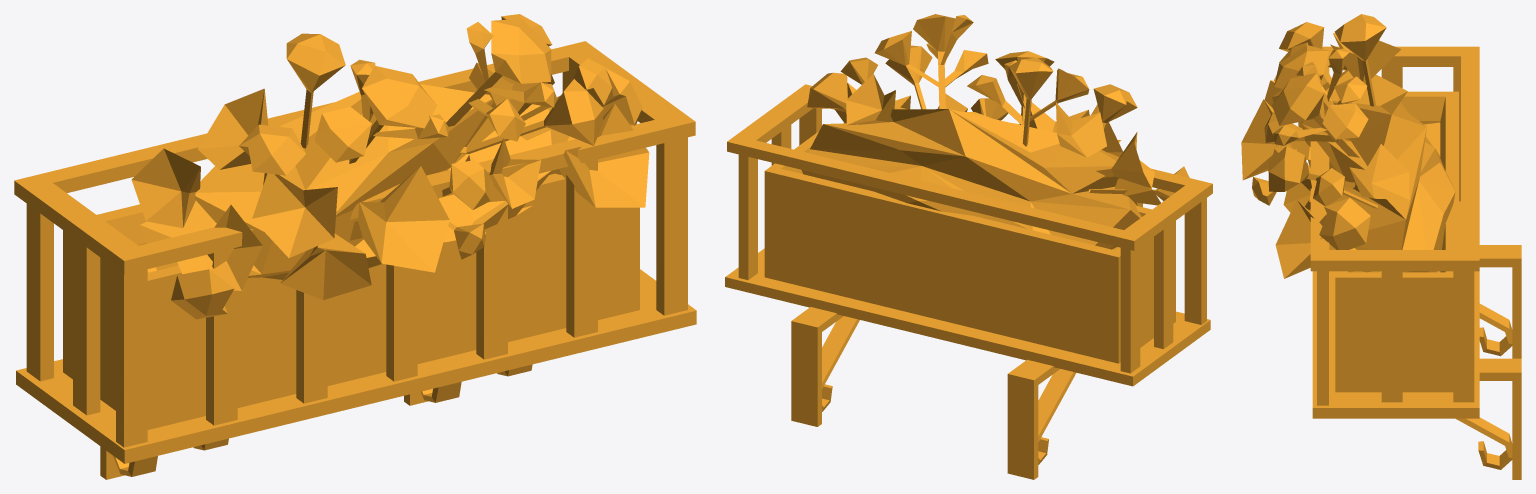
The model's file is SM_Pot_Window_City_A.fbx.
The picture shows the model from 3 angles, left to right: view 1: azimuth 30°, elevation 25°; view 2: azimuth 150°, elevation 25°; view 3: azimuth 270°, elevation 25°; orthographic projection. The views are drawn at different scales.
Visible parts, largest first — view 1: SM_Pot_Window_City_A; view 2: SM_Pot_Window_City_A; view 3: SM_Pot_Window_City_A.
Part boxes in pixels (x1,y1,x2,y2): SM_Pot_Window_City_A: [14, 14, 696, 479]; SM_Pot_Window_City_A: [725, 14, 1212, 479]; SM_Pot_Window_City_A: [1241, 14, 1521, 479].
Bounding box in the file's own units: 1.22 × 1 × 0.6716.
